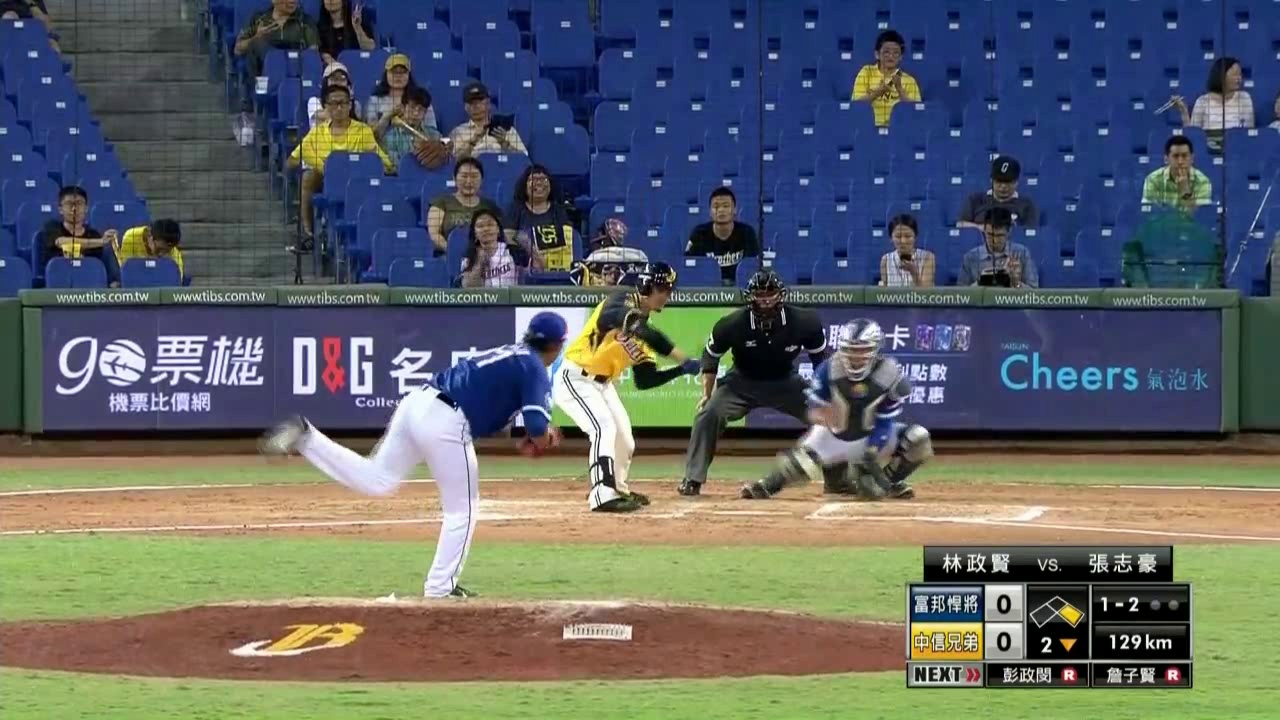base: (1030, 594, 1085, 628)
out: (1146, 588, 1181, 624)
score1: (986, 588, 1020, 617)
score2: (989, 626, 1020, 655)
session: (1033, 628, 1086, 659)
speed: (1095, 628, 1186, 658)
strikeball: (1091, 588, 1145, 621)
